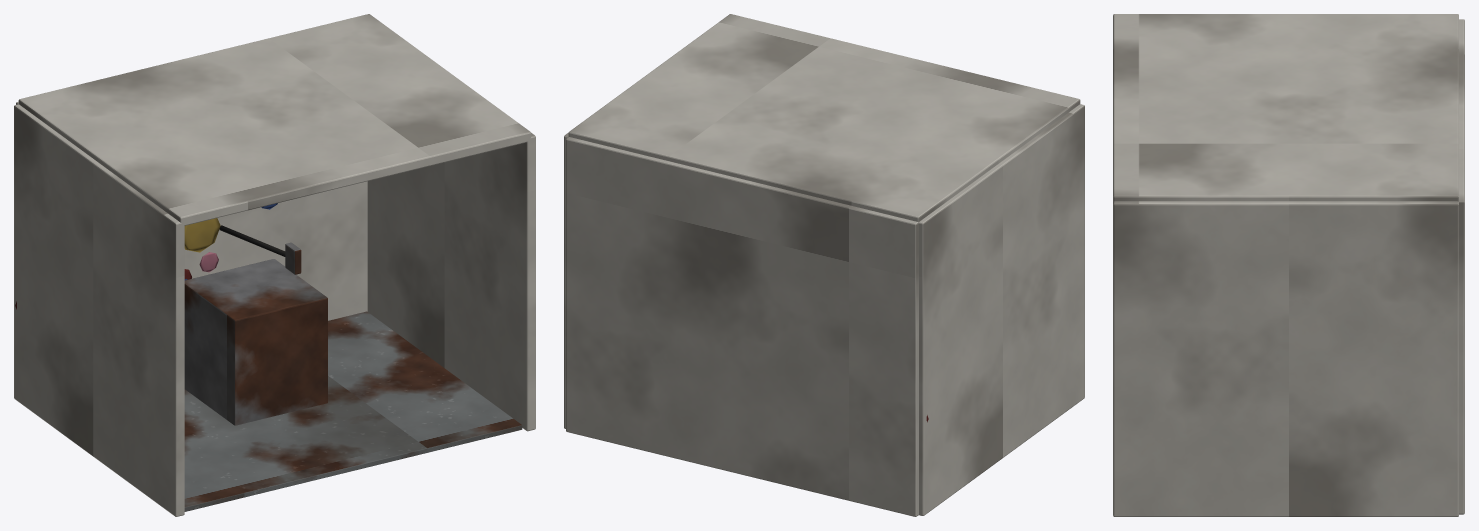
Rendered from HM04_paint_booth.glb.
3 renders of one model, left to right at view 1: azimuth 30°, elevation 25°; view 2: azimuth 150°, elevation 25°; view 3: azimuth 270°, elevation 25°, orthographic. The views are drawn at different scales.
Parts seen in each view (by area): view 1: HM04_paint_booth; view 2: HM04_paint_booth; view 3: HM04_paint_booth.
Part boxes in pixels (x1=…): HM04_paint_booth: x1=14, y1=14, x2=535, y2=516; HM04_paint_booth: x1=564, y1=14, x2=1084, y2=516; HM04_paint_booth: x1=1113, y1=14, x2=1464, y2=516.
Size of the model in its own units: 3 by 2.36 by 2.36.
9 materials, 9 textured.
